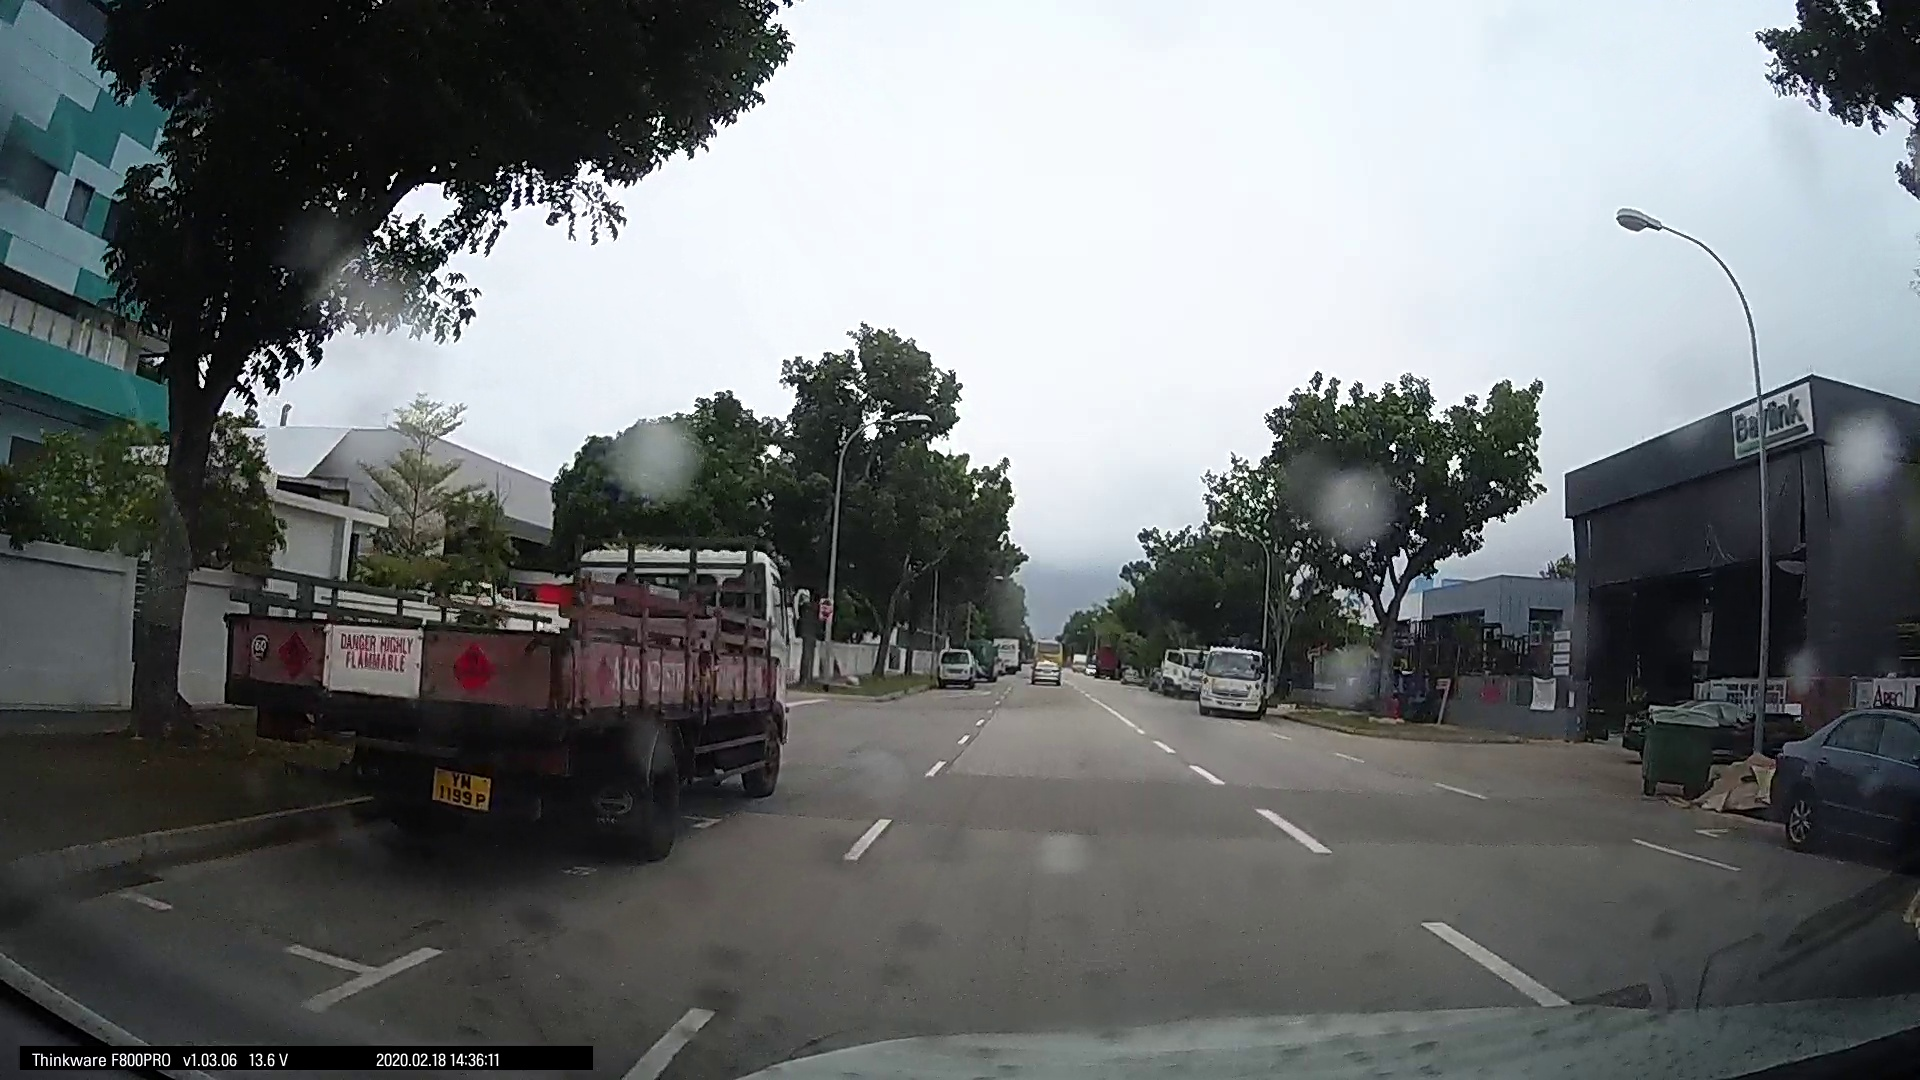Heavy Vehicle: (231, 520, 816, 843)
Light Vehicle: (1771, 702, 1917, 862), (1189, 644, 1269, 719), (931, 640, 982, 688), (1153, 647, 1200, 696), (1023, 645, 1060, 682)
